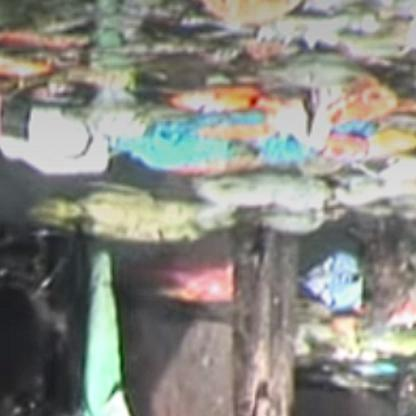Trash: (0, 95, 116, 183)
